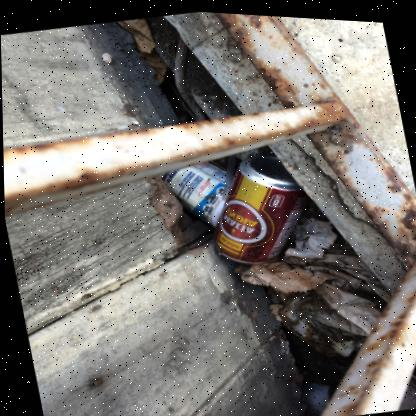Metal: (211, 150, 307, 260)
Paper: (231, 212, 389, 301), (275, 277, 379, 351), (115, 15, 166, 81)
Plastic: (157, 158, 223, 223), (219, 149, 235, 196)
